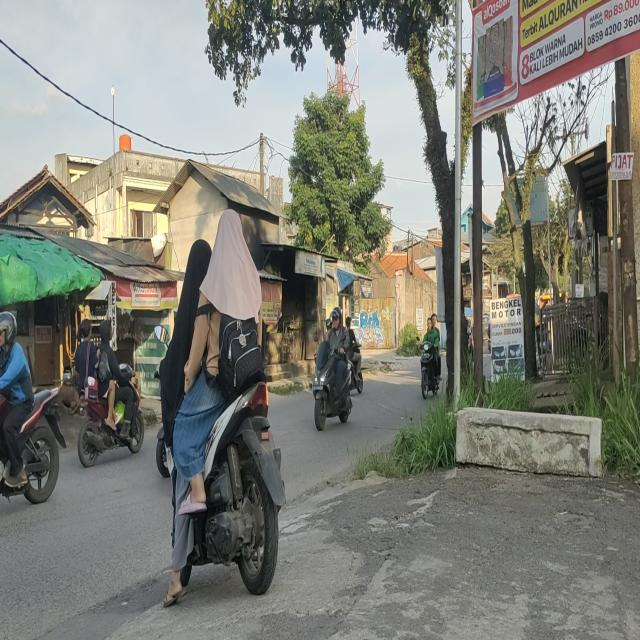helmet: (0, 309, 17, 351), (330, 306, 342, 328)
no-helmet: (217, 209, 243, 253), (188, 240, 212, 284), (100, 317, 115, 345), (80, 316, 94, 342), (426, 317, 433, 331), (346, 317, 352, 329), (432, 314, 437, 325)
